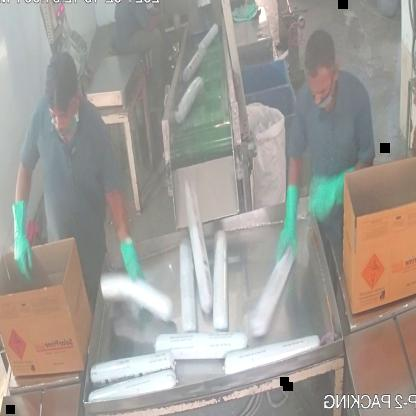glove: (307, 154, 358, 233), (2, 190, 37, 288), (274, 172, 304, 285)
